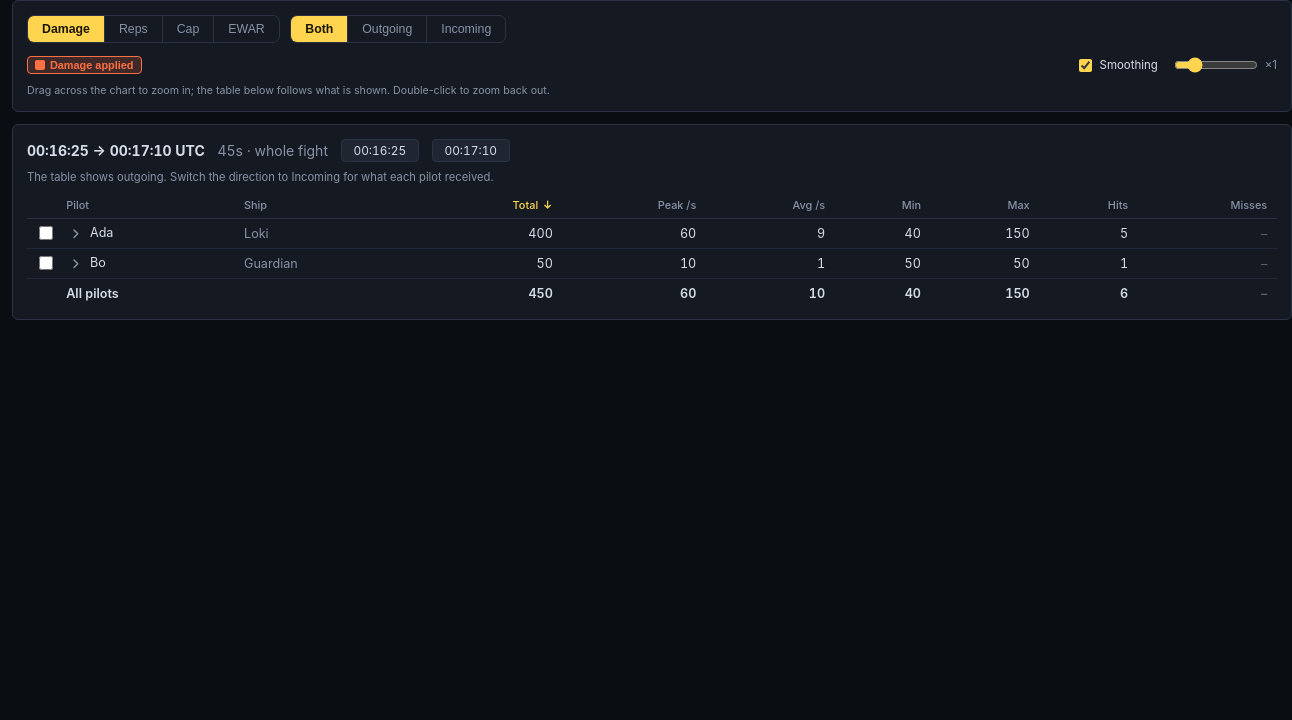
TimelineTab › switching stat type and direction updates the table and the URL
Expected: the row with test id "stats-row-1" is shown, [27,218,1277,248]
Click the button "Incoming": [466, 29] box [427,16,505,42]
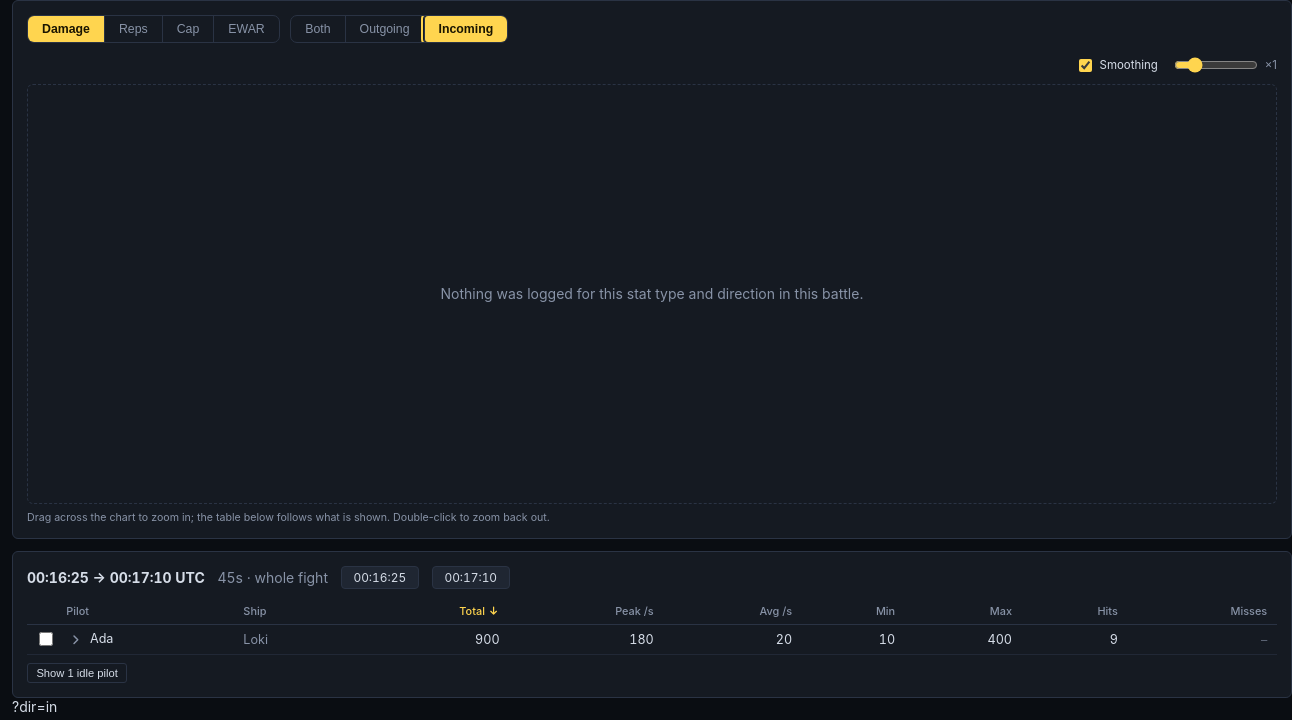
Result: the row with test id "stats-row-1" shows "900" at [475,632,500,647]
Result: the row with test id "stats-row-2" is gone
Click the button "Reps": [134, 29] box [105,16,163,42]
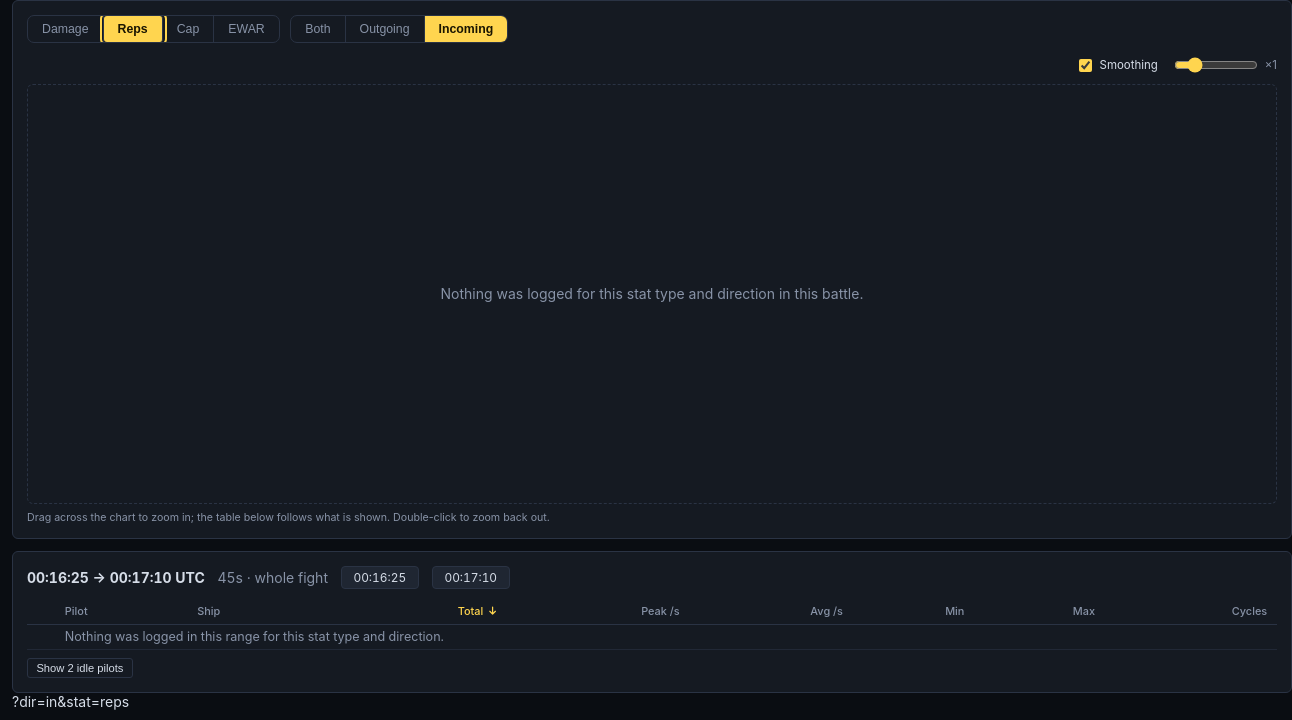
Result: the text with test id "where" shows "dir=in" at [12,693,129,710]
Result: the text with test id "where" shows "stat=reps" at [12,693,129,710]
